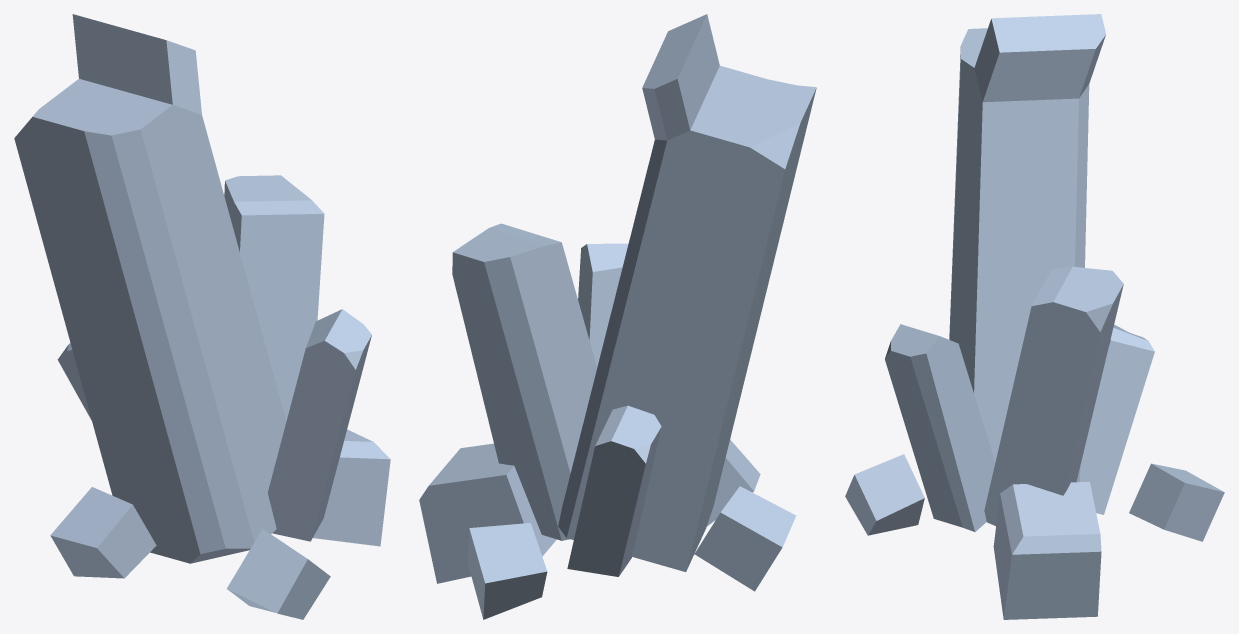
File: crystal5.glb
3 renders of one model, left to right at view 1: azimuth 30°, elevation 25°; view 2: azimuth 150°, elevation 25°; view 3: azimuth 270°, elevation 25°, orthographic. The views are drawn at different scales.
Visible parts, largest first — view 1: crystal5; view 2: crystal5; view 3: crystal5.
Part boxes in pixels (<box>): crystal5: <box>14,14,390,619</box>; crystal5: <box>419,14,816,619</box>; crystal5: <box>845,14,1224,619</box>.
Size of the model in its own units: 2.38 by 3.69 by 2.5.
